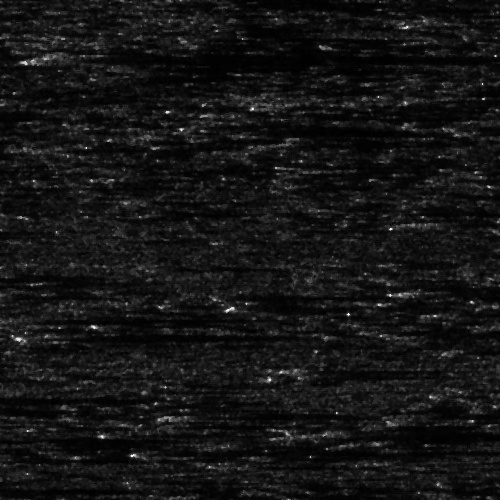object: (15, 48, 130, 61), (367, 407, 460, 420), (280, 427, 363, 440), (0, 312, 76, 325), (14, 144, 97, 153), (393, 219, 466, 226), (85, 431, 168, 436), (138, 413, 211, 418), (3, 332, 66, 337), (279, 365, 332, 370), (442, 348, 483, 353), (257, 140, 298, 143)
shadow: (73, 48, 425, 61), (34, 312, 219, 325), (321, 427, 500, 440), (55, 144, 199, 153), (35, 332, 268, 337), (414, 407, 500, 420), (175, 413, 342, 418), (127, 431, 235, 436), (306, 365, 413, 370), (430, 219, 500, 226), (277, 140, 432, 143), (0, 396, 130, 399), (0, 270, 32, 279), (462, 348, 500, 353), (0, 10, 22, 17)
